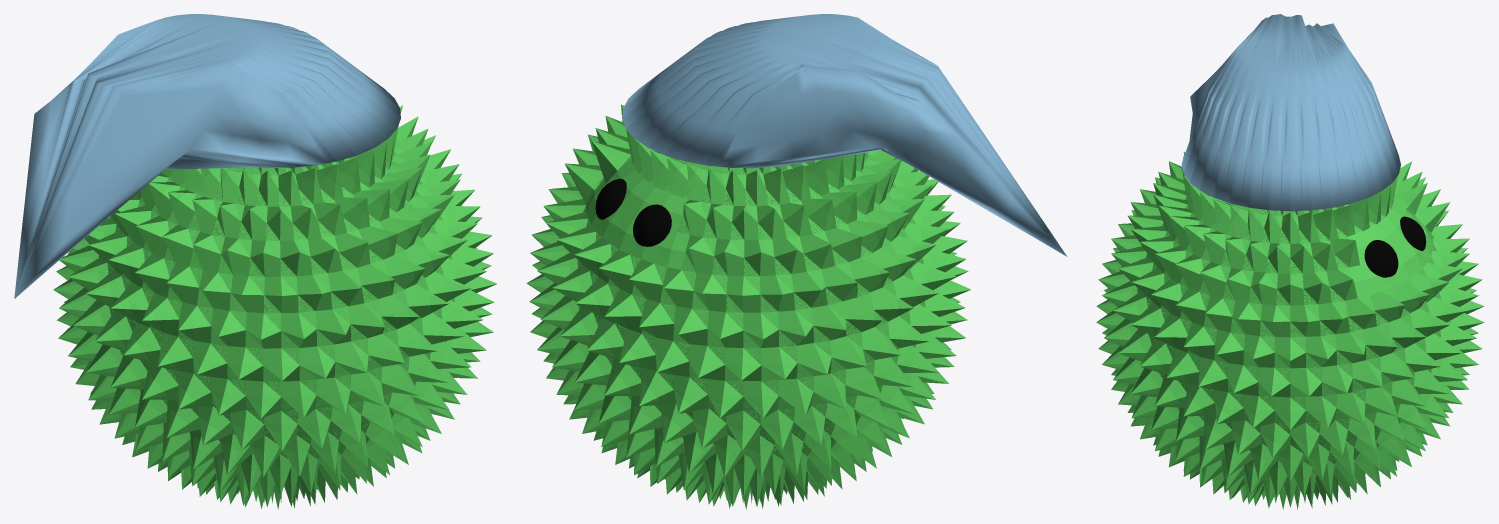
The model's file is Chara.fbx.
3 renders of one model, left to right at view 1: azimuth 30°, elevation 25°; view 2: azimuth 150°, elevation 25°; view 3: azimuth 270°, elevation 25°, orthographic. The views are drawn at different scales.
Parts seen in each view (by area): view 1: Sphere, Cone; view 2: Sphere, Cone, Sphere.002, Sphere.001; view 3: Sphere, Cone, Sphere.001, Sphere.002.
Boxes of the visible parts, box(x1,y1,x2,y2) form: Sphere: box(53, 105, 497, 509); Cone: box(14, 14, 400, 298); Sphere: box(526, 104, 970, 509); Cone: box(622, 14, 1067, 256); Sphere.002: box(633, 204, 671, 246); Sphere.001: box(595, 178, 626, 219); Sphere: box(1096, 152, 1484, 509); Cone: box(1181, 14, 1400, 211); Sphere.001: box(1364, 240, 1398, 277); Sphere.002: box(1400, 216, 1426, 250).
Bounding box in the file's own units: 2.98 × 2.78 × 2.38.
